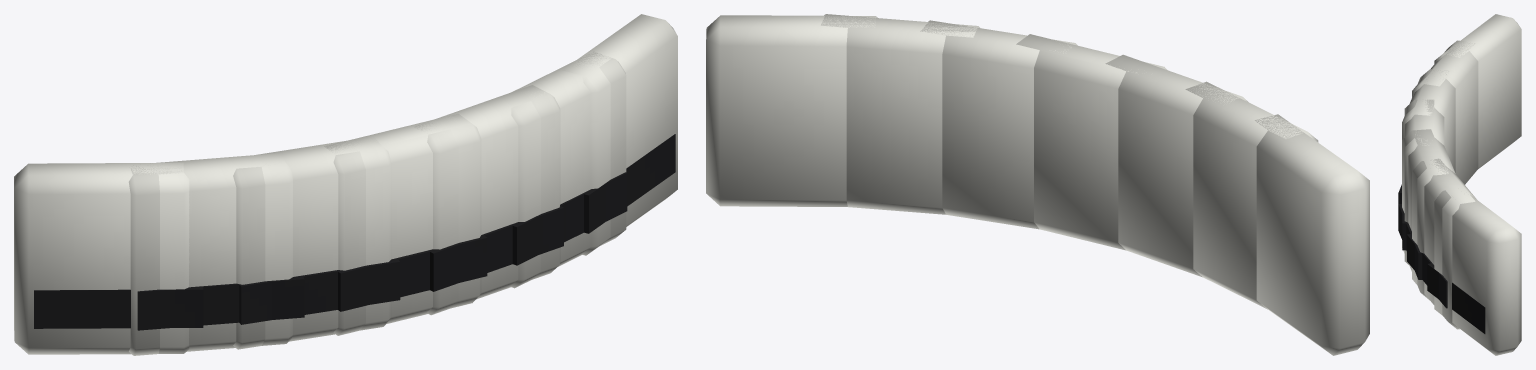
File: para_choque.glb
The picture shows the model from 3 angles, left to right: view 1: azimuth 30°, elevation 25°; view 2: azimuth 150°, elevation 25°; view 3: azimuth 270°, elevation 25°; orthographic projection. The views are drawn at different scales.
Parts seen in each view (by area): view 1: Inteiro; view 2: Inteiro; view 3: Inteiro.
Part boxes in pixels (box(x1,y1,x2,y2)): Inteiro: box(14, 14, 677, 355); Inteiro: box(706, 14, 1369, 355); Inteiro: box(1398, 14, 1521, 355).
Size of the model in its own units: 1.08 by 0.28 by 0.2497.
Materials: 1 (1 with a texture image).
